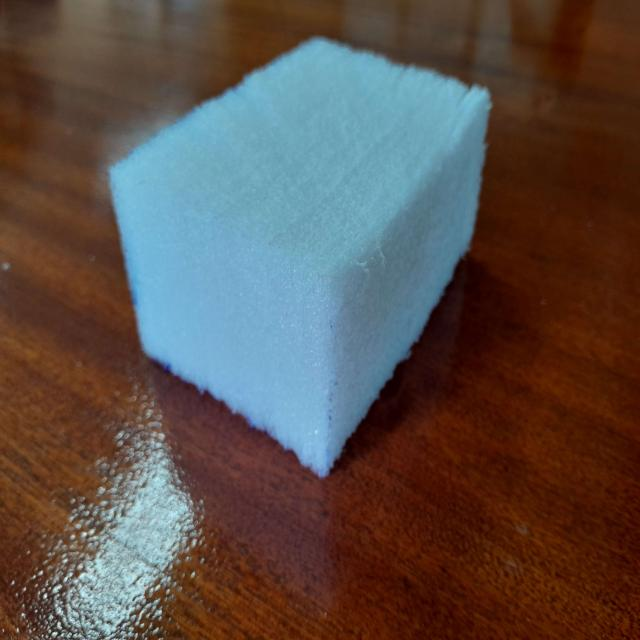trailer: (108, 30, 492, 477)
